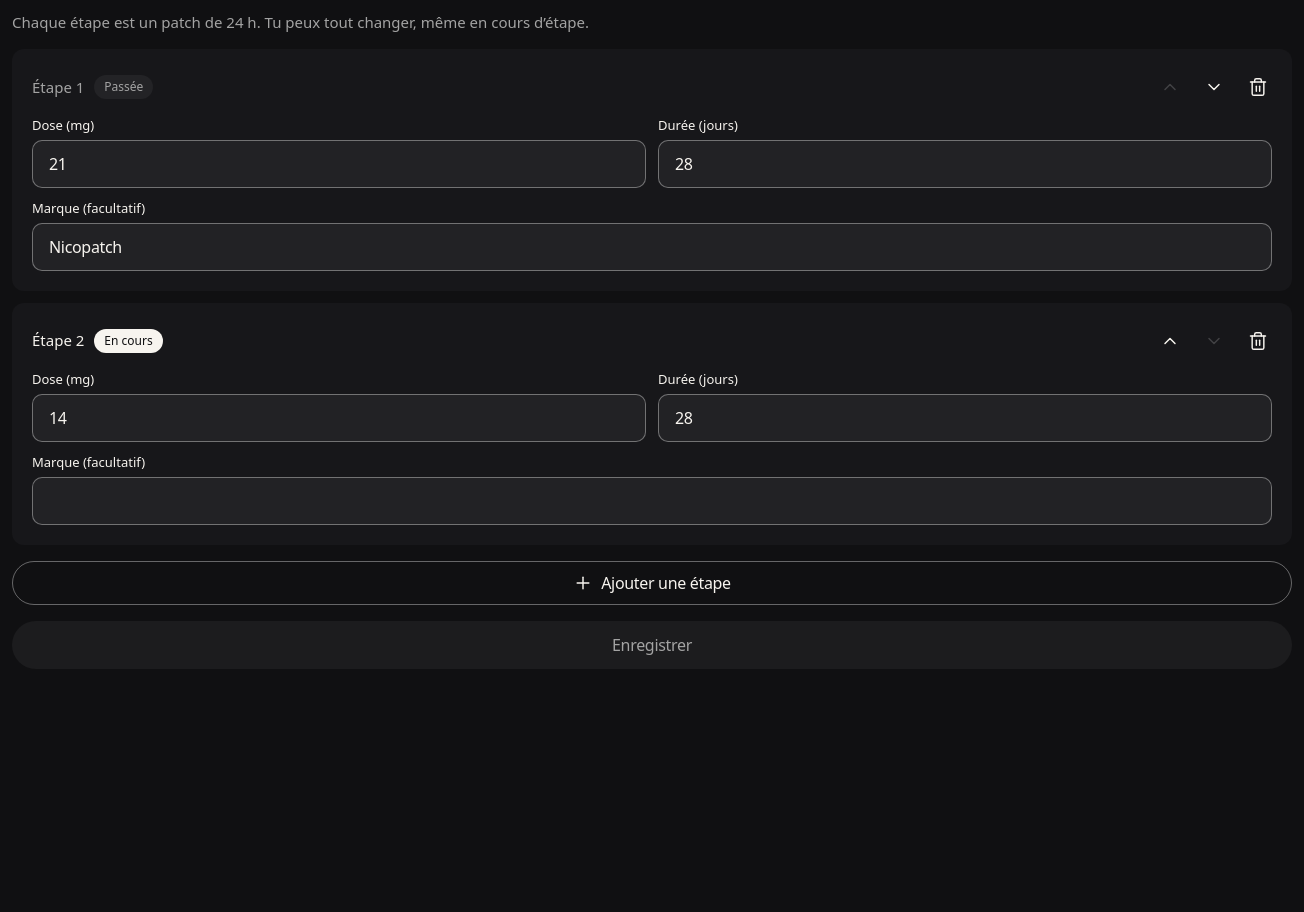
drops a refusal once the protocol in force is back
Clear the field labelled "Dose (mg)" below "Étape 2": (339, 418) [32, 394, 646, 442]
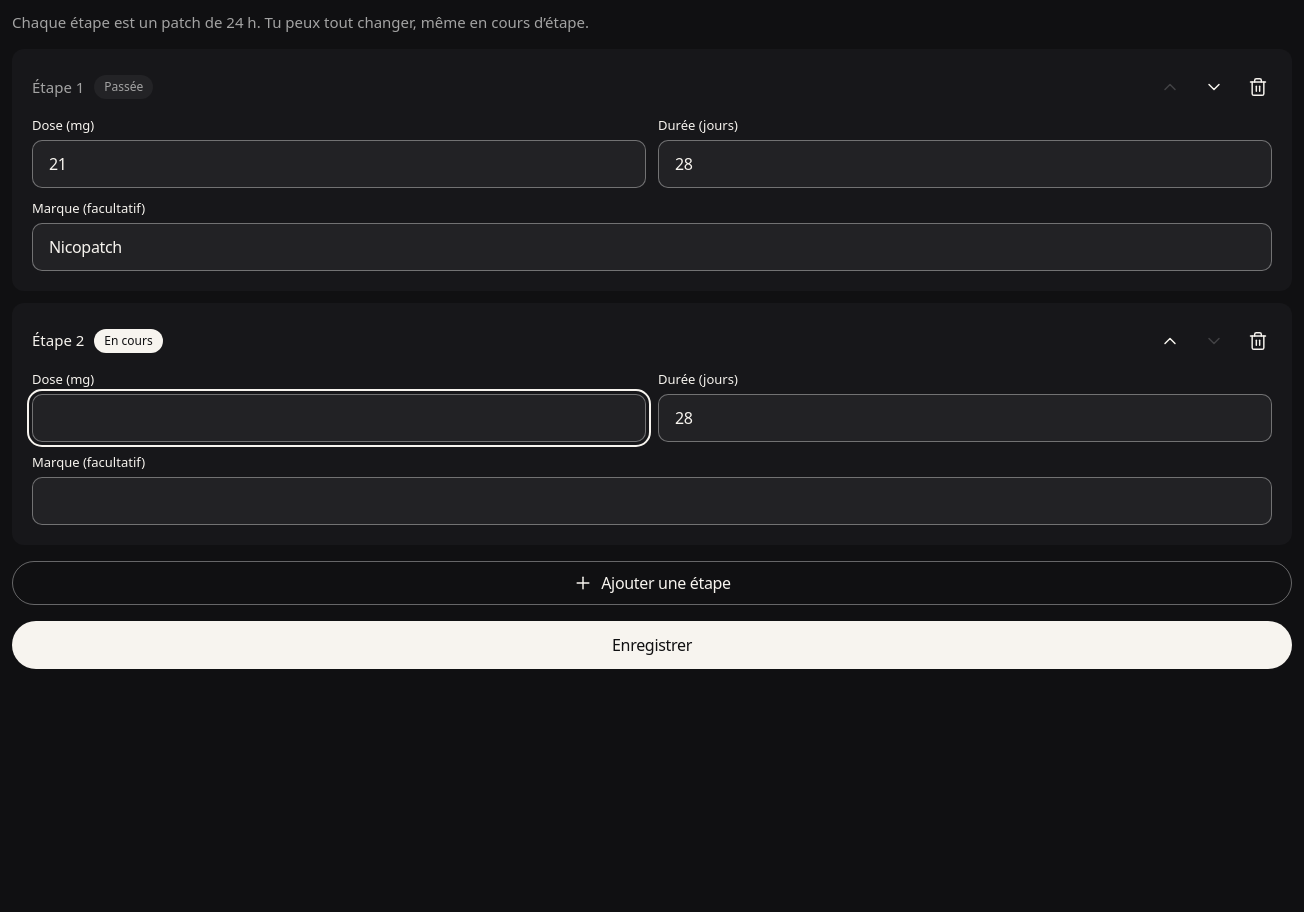
Click the button "Enregistrer": (652, 645) [12, 621, 1292, 669]
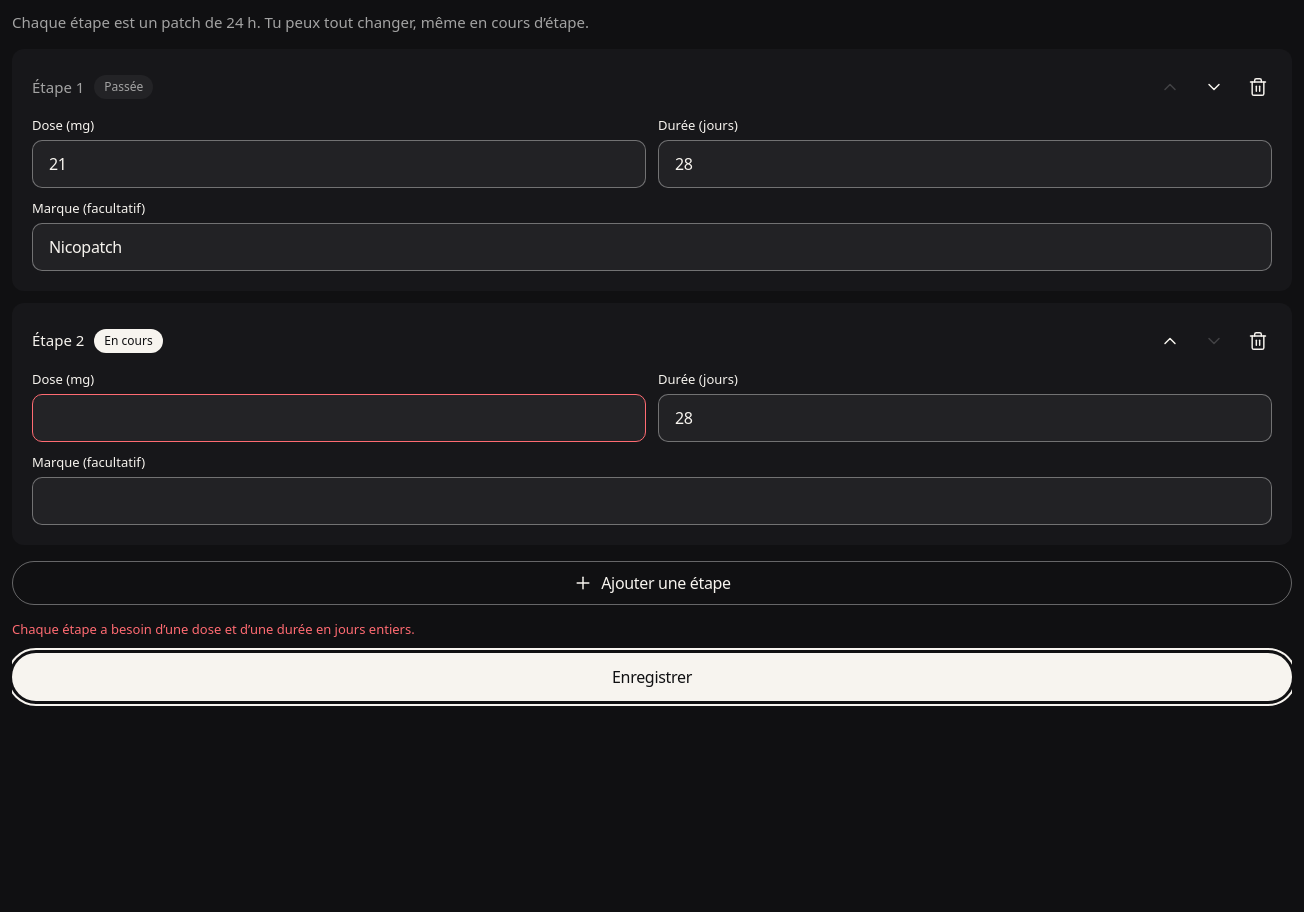
Now the message reads "Chaque étape a besoin d’une dose et d’une durée en jours entiers.", box [12, 620, 415, 638]
In the field labelled "Dose (mg)" below "Étape 2": (339, 418) [32, 394, 646, 442], type "14"
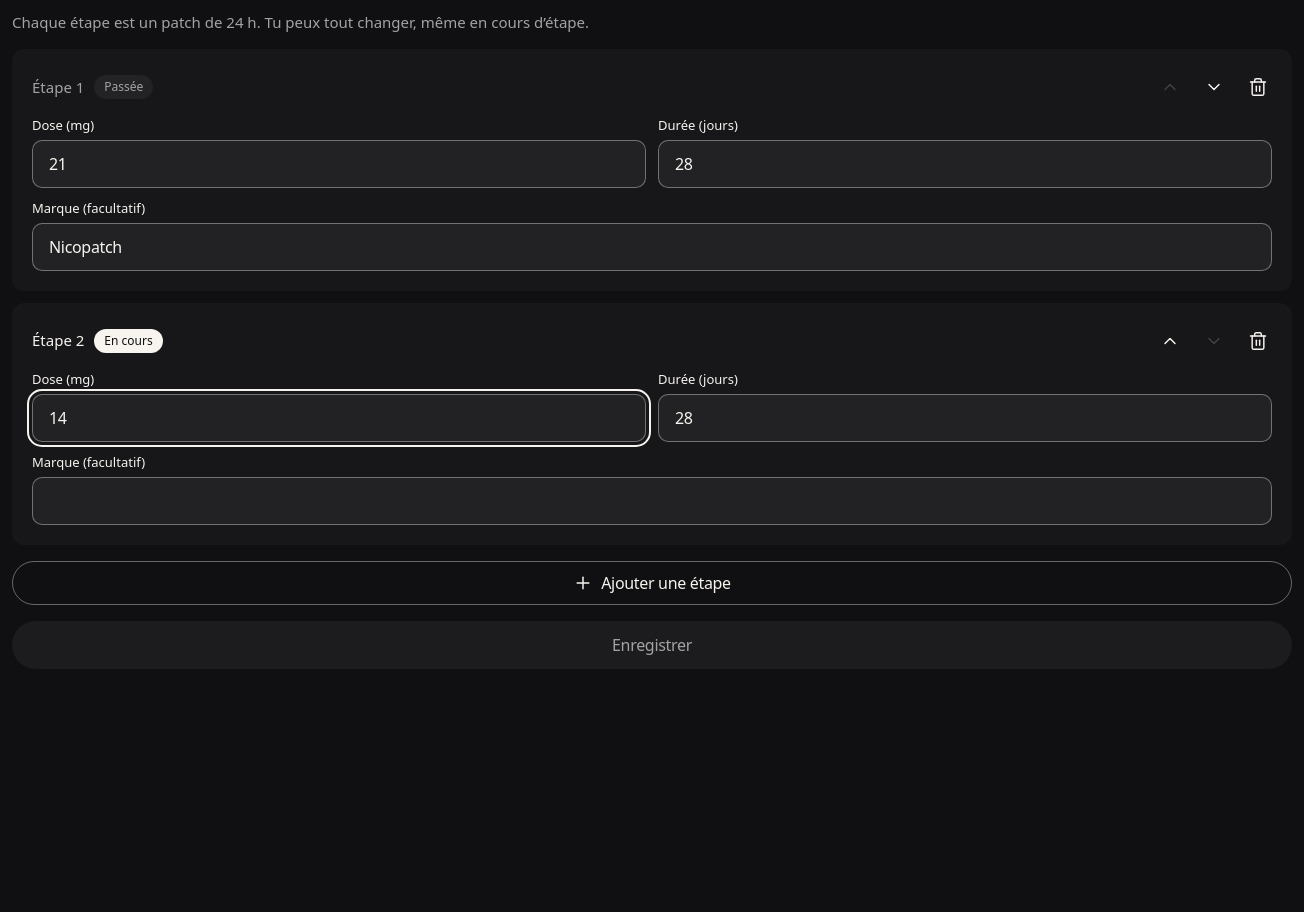
Now the message "Chaque étape a besoin d’une dose et d’une durée en jours entiers." is gone
Now the button "Enregistrer" is disabled, box [12, 621, 1292, 669]
